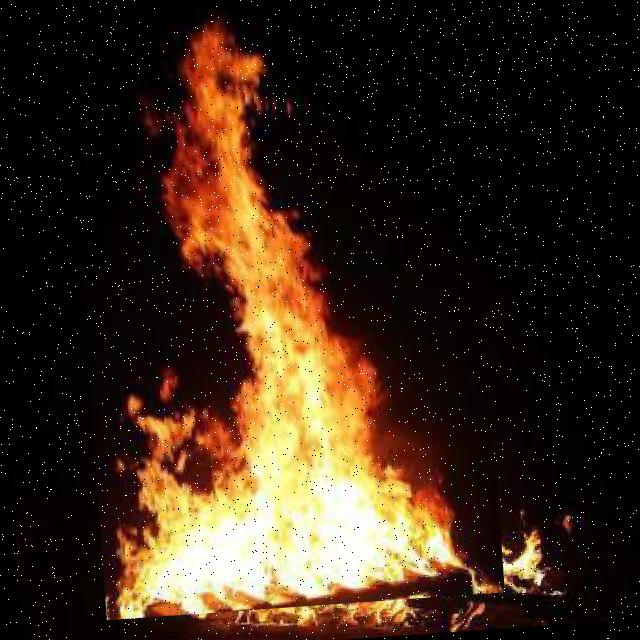fire: (64, 0, 504, 619)
